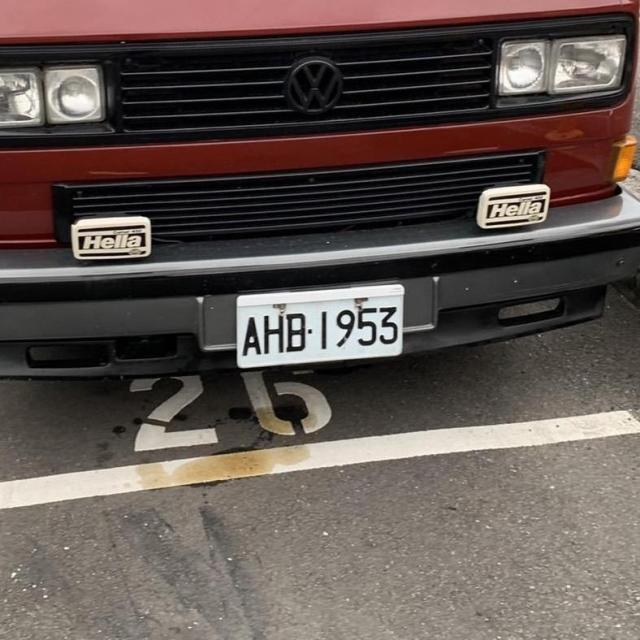W: (224, 279, 416, 378)
